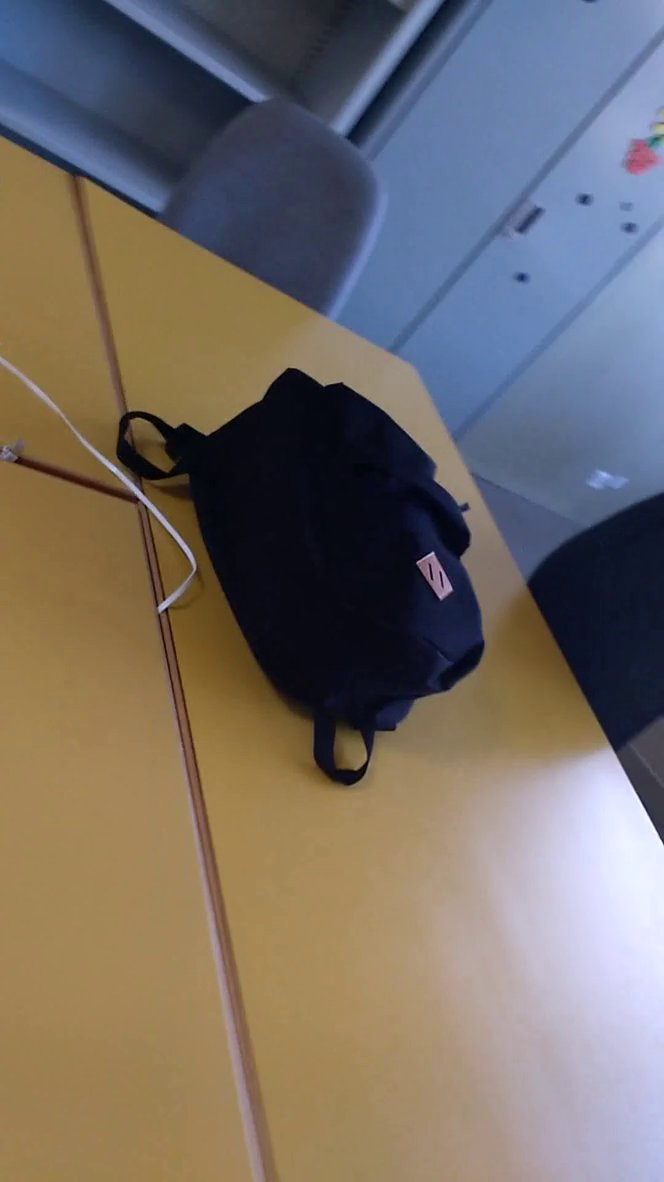bag: (107, 359, 496, 798)
chair: (146, 84, 407, 345)
